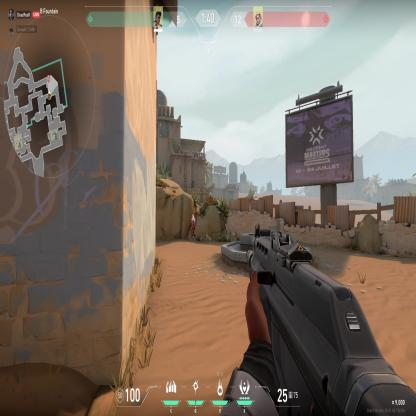enemy: (189, 212, 198, 242)
